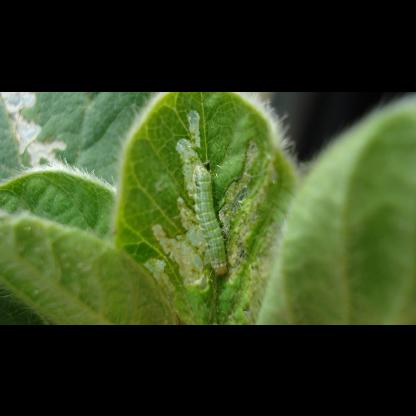agujero: (153, 220, 209, 288), (218, 170, 252, 240), (241, 137, 259, 173), (189, 111, 201, 149)
oruga: (193, 166, 232, 276)
